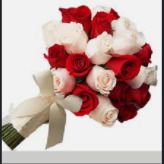RedRose: (66, 84, 99, 120), (101, 55, 139, 81), (112, 82, 134, 121), (89, 9, 119, 36), (64, 50, 90, 77), (133, 38, 156, 65), (43, 42, 68, 65), (132, 83, 149, 115), (66, 6, 89, 26)
